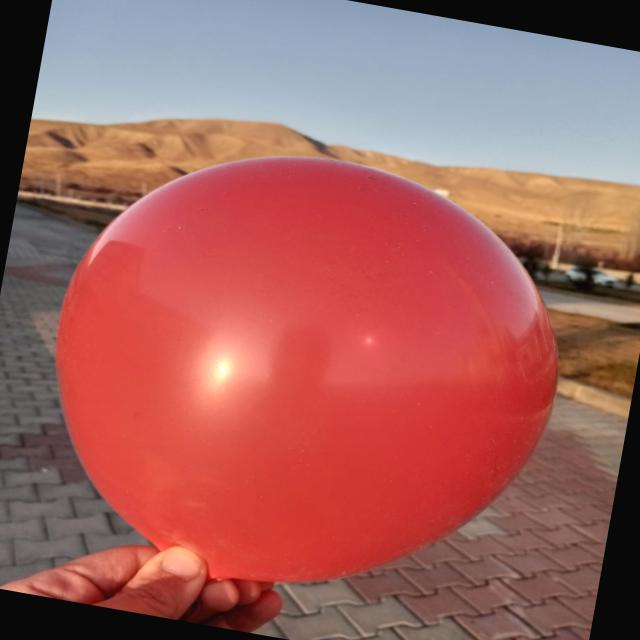balloon: (56, 156, 557, 581)
